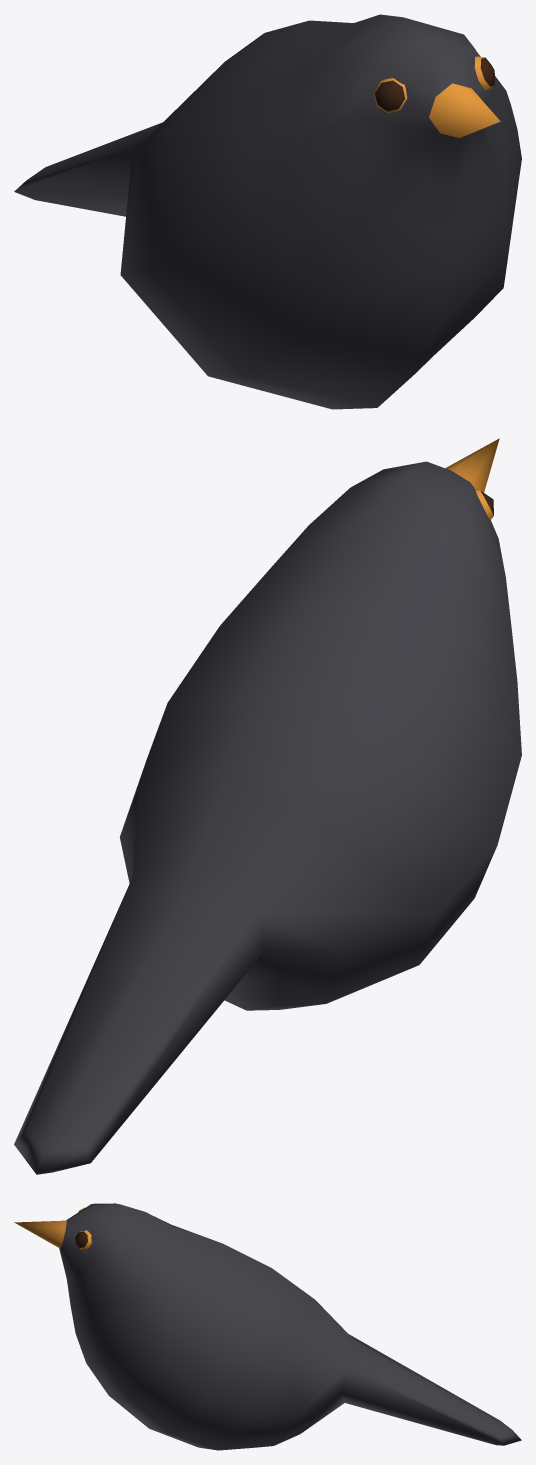
Rendered from Blackbird_m.fbx.
3 views of the same model, one above another, from view 1: azimuth 30°, elevation 25°; view 2: azimuth 150°, elevation 25°; view 3: azimuth 270°, elevation 25° (orthographic). The views are drawn at different scales.
Visible parts, largest first — view 1: Black_Bird_male; view 2: Black_Bird_male; view 3: Black_Bird_male.
Part boxes in pixels (box(x1,y1,x2,y2)): Black_Bird_male: box(14, 14, 521, 409); Black_Bird_male: box(14, 438, 521, 1174); Black_Bird_male: box(14, 1203, 521, 1450).
Bounding box in the file's own units: 29.99 × 36.31 × 68.71.
Materials: 1 (1 with a texture image).
